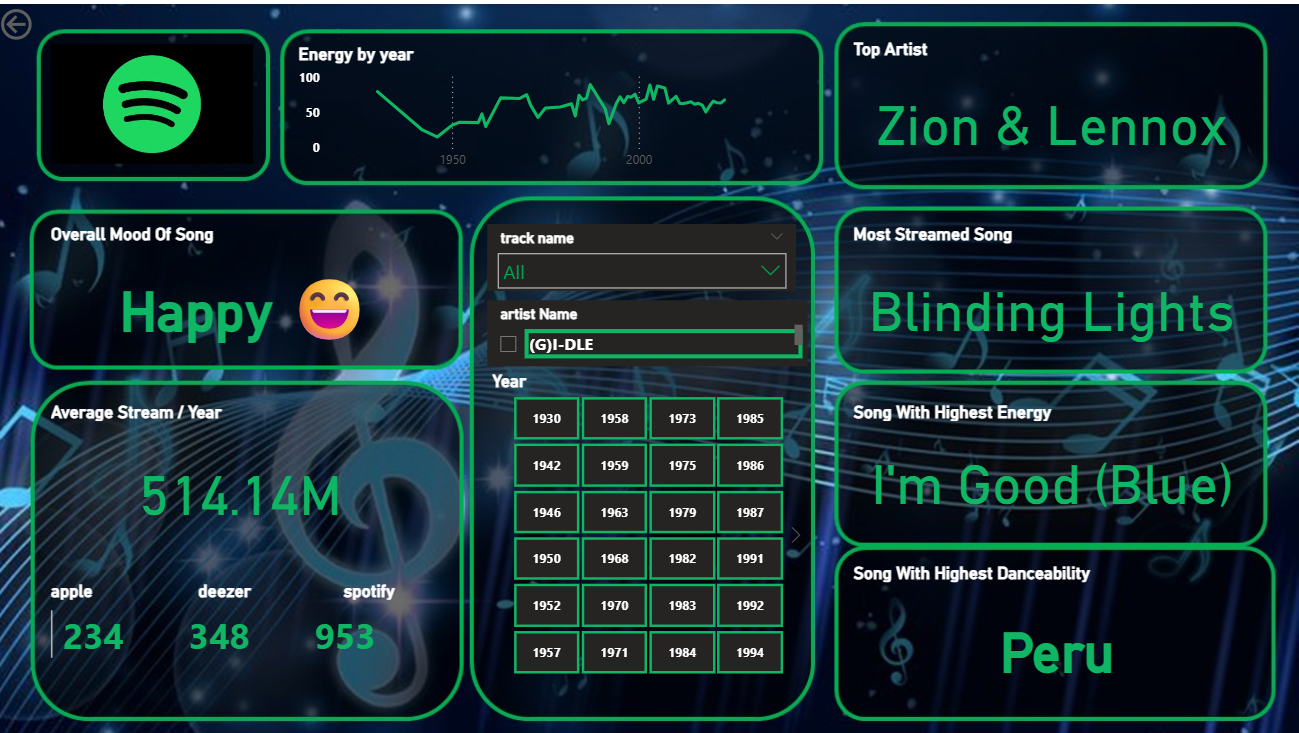

The dashboard page shown, as its layout file describes it:
{"tool":"powerbi","page":{"name":"spotify analysis page 3","canvas":[1280,720],"ordinal":2},"visuals":[{"type":"card","title":"Top Artist","fields":{"Values":["Min(Spotify Dataset.artist(s)_name)"]},"box":[837.1,34.3,399.3,137.2],"z":0},{"type":"card","title":"Song With Highest Energy","fields":{"Values":["Spotify Dataset.Highest Energy Song"]},"box":[837.1,389.7,399.3,130.4],"z":1},{"type":"card","title":"Most Streamed Song","fields":{"Values":["Spotify Dataset.Most Streamed Song"]},"box":[837.1,215.4,399.3,140],"z":2},{"type":"card","title":"Song With Highest Danceability","fields":{"Values":["Spotify Dataset.Highest Danceability Song"]},"box":[837.1,548.9,410.3,142.7],"z":3},{"type":"card","title":"Average Stream / Year","fields":{"Values":["Avg(Spotify Dataset.streams)"]},"box":[49.4,389.7,380.1,152.3],"z":4},{"type":"actionButton","box":[0,0,100,40],"z":8},{"type":"slicer","title":"Year","fields":{"Values":["Spotify Dataset.released_year"]},"box":[481.6,359.5,314.2,304.6],"z":9},{"type":"slicer","fields":{"Values":["Spotify Dataset.track_name"]},"box":[481.6,215.4,303.3,65.9],"z":10},{"type":"slicer","fields":{"Values":["Spotify Dataset.artist(s)_name"]},"box":[481.6,290.9,314.2,64.5],"z":11},{"type":"multiRowCard","title":"apple                        deezer                     spotify","fields":{"Values":["Count(Spotify Dataset.in_apple_playlists)","Count(Spotify Dataset.in_deezer_playlists)","CountNonNull(Spotify Dataset.in_spotify_playlists)"]},"box":[49.4,565.4,392.5,113.9],"z":12},{"type":"card","title":"Overall Mood Of Song","fields":{"Values":["Spotify Dataset.Mood"]},"box":[49.4,215.4,392.5,140],"z":13},{"type":"image","box":[49.4,34.3,208.6,127.6],"z":14},{"type":"lineChart","title":" Energy by year","fields":{"Category":["Spotify Dataset.released_year"],"Y":["Avg(Spotify Dataset.energy_%)"]},"box":[292.3,39.8,503.6,131.7],"z":15}]}

Visuals, with their boxes on the page's 1280x720 design canvas (x1, y1, x2, y2). These are canvas units, not pixel positions in the 1299x733 screenshot, which may show the page scaled, cropped or inside an application window:
"Top Artist" card: [left=837, top=34, right=1236, bottom=172]
"Song With Highest Energy" card: [left=837, top=390, right=1236, bottom=520]
"Most Streamed Song" card: [left=837, top=215, right=1236, bottom=355]
"Song With Highest Danceability" card: [left=837, top=549, right=1247, bottom=692]
"Average Stream / Year" card: [left=49, top=390, right=430, bottom=542]
actionButton: [left=0, top=0, right=100, bottom=40]
"Year" slicer: [left=482, top=360, right=796, bottom=664]
slicer - Spotify Dataset.track_name: [left=482, top=215, right=785, bottom=281]
slicer - Spotify Dataset.artist(s)_name: [left=482, top=291, right=796, bottom=355]
"apple                        deezer                     spotify" multiRowCard: [left=49, top=565, right=442, bottom=679]
"Overall Mood Of Song" card: [left=49, top=215, right=442, bottom=355]
image: [left=49, top=34, right=258, bottom=162]
" Energy by year" lineChart: [left=292, top=40, right=796, bottom=172]
